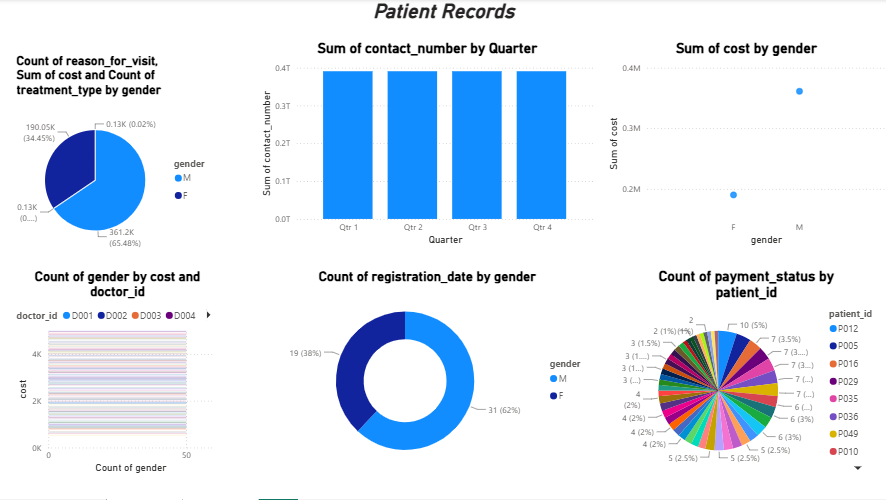

The page's visual inventory and layout, read from the dashboard file:
{"tool":"powerbi","page":{"name":"Page 1","canvas":[1280,720],"ordinal":0},"visuals":[{"type":"pieChart","fields":{"Category":["patients.gender"],"Y":["CountNonNull(appointments.reason_for_visit)","Sum(treatments.cost)","CountNonNull(treatments.treatment_type)"]},"box":[18.5,77.3,300.7,300.7],"z":0},{"type":"textbox","title":"Patient Records","box":[393.7,0,491.7,35.1],"z":1000},{"type":"clusteredBarChart","fields":{"Y":["CountNonNull(patients.gender)"],"Category":["treatments.cost"],"Series":["doctors.doctor_id"]},"box":[18,388,301,301],"z":2000},{"type":"lineClusteredColumnComboChart","fields":{"Category":["appointments.appointment_date.Variation.Date Hierarchy.Quarter","appointments.appointment_date.Variation.Date Hierarchy.Month","appointments.appointment_date.Variation.Date Hierarchy.Day"],"Y":["Sum(patients.contact_number)"]},"box":[369.6,58.8,490.5,300.7],"z":3000},{"type":"donutChart","fields":{"Category":["patients.gender"],"Y":["CountNonNull(patients.registration_date)"]},"box":[369.6,388,490.5,300.7],"z":4000},{"type":"scatterChart","fields":{"X":["patients.gender"],"Y":["Sum(treatments.cost)"]},"box":[870,59,410,301],"z":5000},{"type":"pieChart","fields":{"Category":["billing.patient_id"],"Y":["CountNonNull(billing.payment_status)"]},"box":[870,388,410,301],"z":6000}]}

Visuals, with their boxes in screenshot pixels (x1, y1, x2, y2), scaled from the page's 1280x720 canvas onto the 886x500 screenshot:
pieChart - patients.gender x CountNonNull(appointments.reason_for_visit): left=13, top=54, right=221, bottom=262
"Patient Records" textbox: left=273, top=0, right=613, bottom=24
clusteredBarChart - CountNonNull(patients.gender) x treatments.cost: left=12, top=269, right=221, bottom=478
lineClusteredColumnComboChart - appointments.appointment_date.Variation.Date Hierarchy.Quarter x appointments.appointment_date.Variation.Date Hierarchy.Month: left=256, top=41, right=595, bottom=250
donutChart - patients.gender x CountNonNull(patients.registration_date): left=256, top=269, right=595, bottom=478
scatterChart - patients.gender x Sum(treatments.cost): left=602, top=41, right=885, bottom=250
pieChart - billing.patient_id x CountNonNull(billing.payment_status): left=602, top=269, right=885, bottom=478
